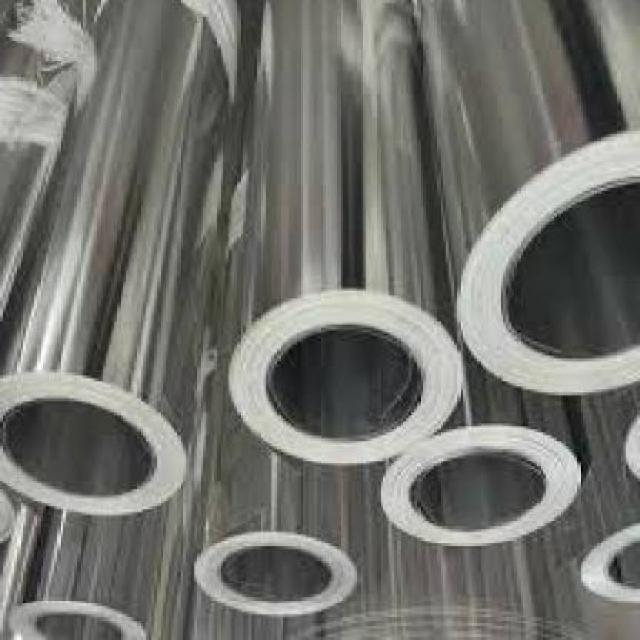METAL: (3, 3, 228, 520), (226, 3, 463, 469), (415, 3, 639, 402), (197, 97, 363, 620), (374, 352, 592, 552), (18, 504, 162, 639), (575, 376, 639, 606)
